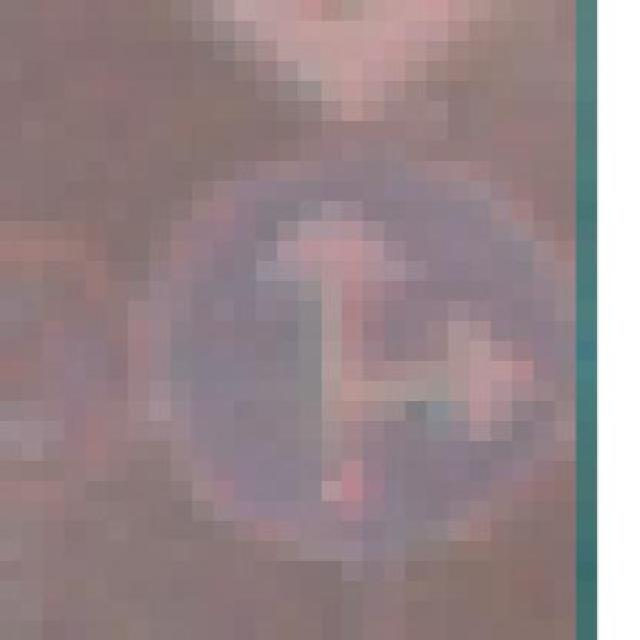Go Straight or Turn Right: (150, 120, 556, 560)
